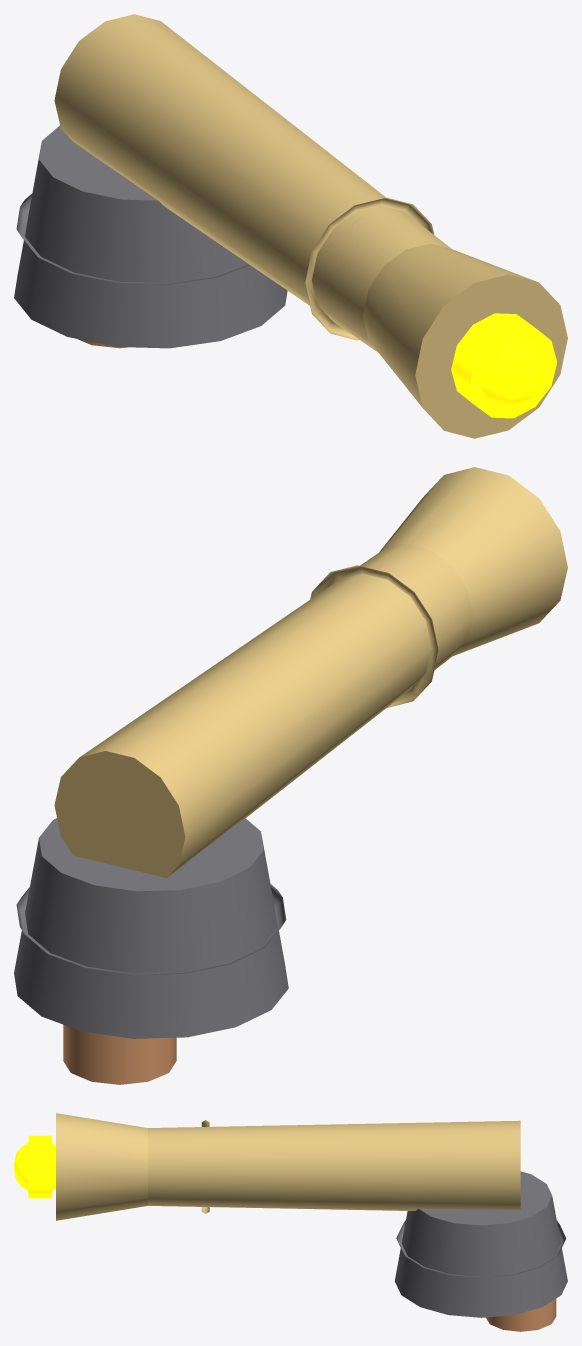
The model's file is shoulder_cannon.glb.
The picture shows the model from 3 angles, top to bottom: view 1: azimuth 30°, elevation 25°; view 2: azimuth 150°, elevation 25°; view 3: azimuth 270°, elevation 25°; orthographic projection. The views are drawn at different scales.
Parts seen in each view (by area): view 1: barrel, base, muzzle; view 2: barrel, base, tank; view 3: barrel, base, muzzle, tank.
Part boxes in pixels (box(x1,y1,x2,y2)): barrel: box(54, 14, 567, 438); base: box(14, 125, 287, 348); muzzle: box(451, 313, 557, 418); barrel: box(54, 467, 567, 878); base: box(14, 818, 288, 1038); tank: box(63, 1024, 176, 1084); barrel: box(56, 1113, 520, 1220); base: box(394, 1171, 567, 1317); muzzle: box(14, 1135, 55, 1198); tank: box(486, 1299, 556, 1331).
Size of the model in its own units: 0.22 by 0.2782 by 0.7033.
